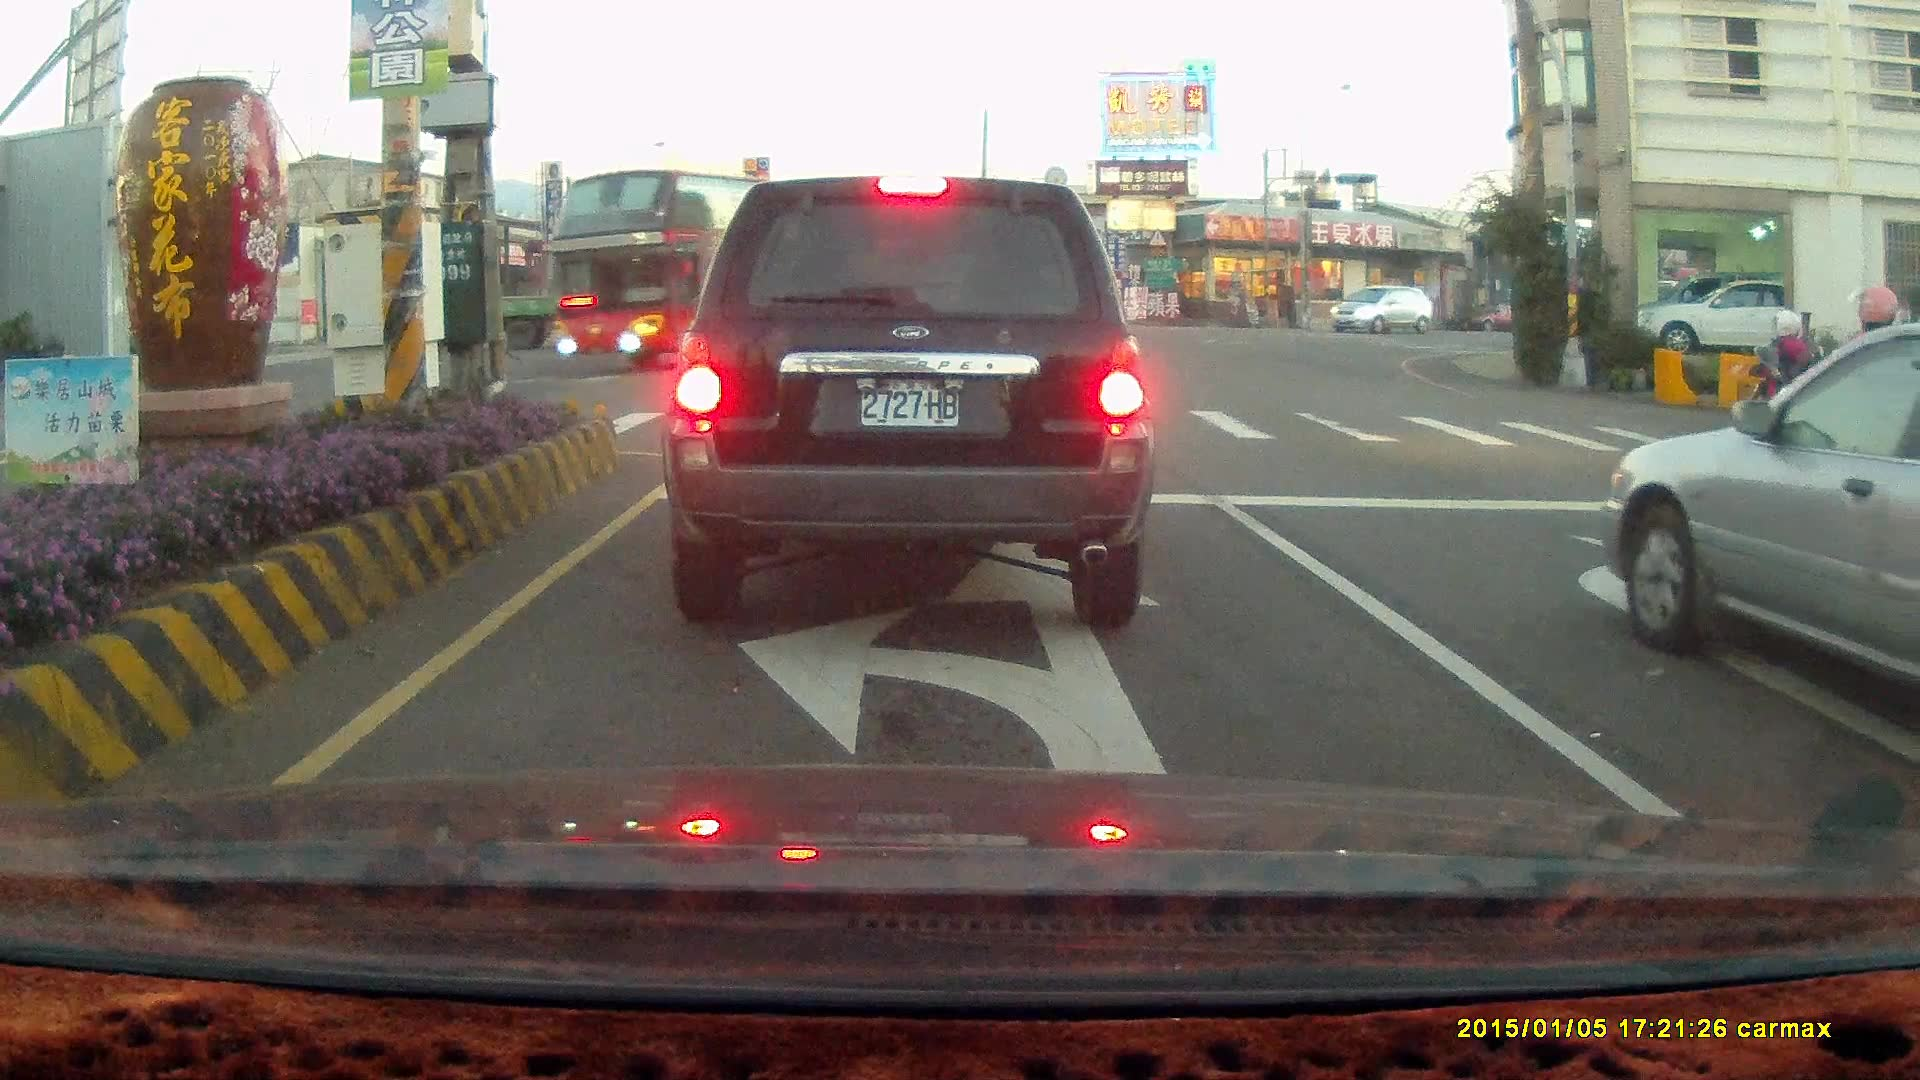rider: (1729, 307, 1823, 455)
vehicle: (659, 173, 1155, 630), (1589, 320, 1920, 732), (1603, 323, 1920, 703), (506, 254, 702, 347), (1629, 275, 1835, 358), (1642, 275, 1784, 356), (1896, 493, 1920, 836), (1331, 285, 1438, 340)
